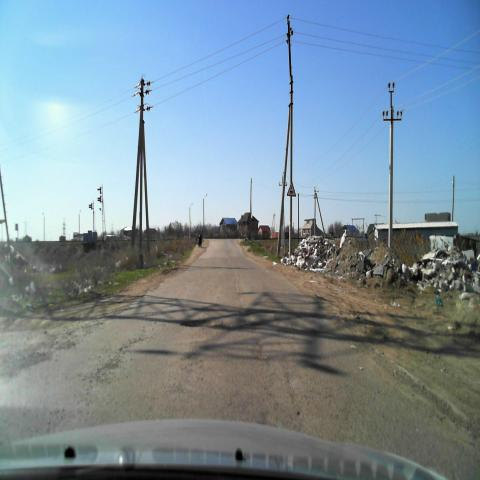1_2: (288, 183, 296, 196)
